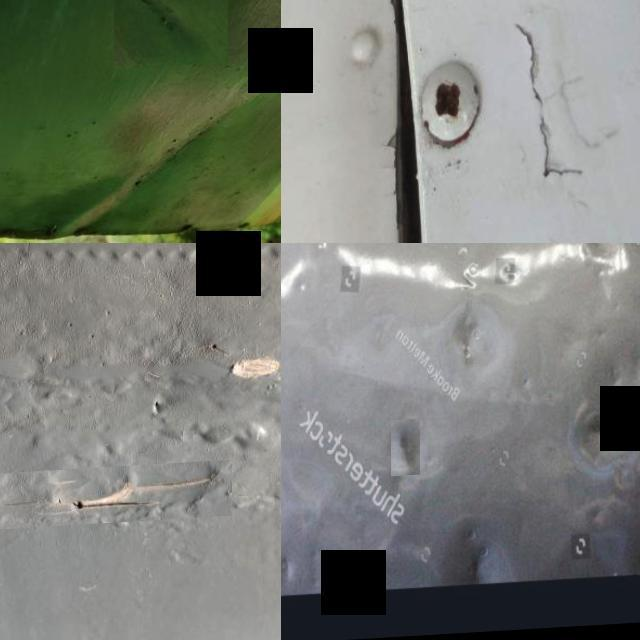Crack: (508, 0, 603, 239), (0, 465, 231, 531), (17, 243, 53, 266)
Dent: (23, 72, 281, 243), (113, 0, 227, 72), (571, 419, 627, 447), (391, 423, 419, 478)
